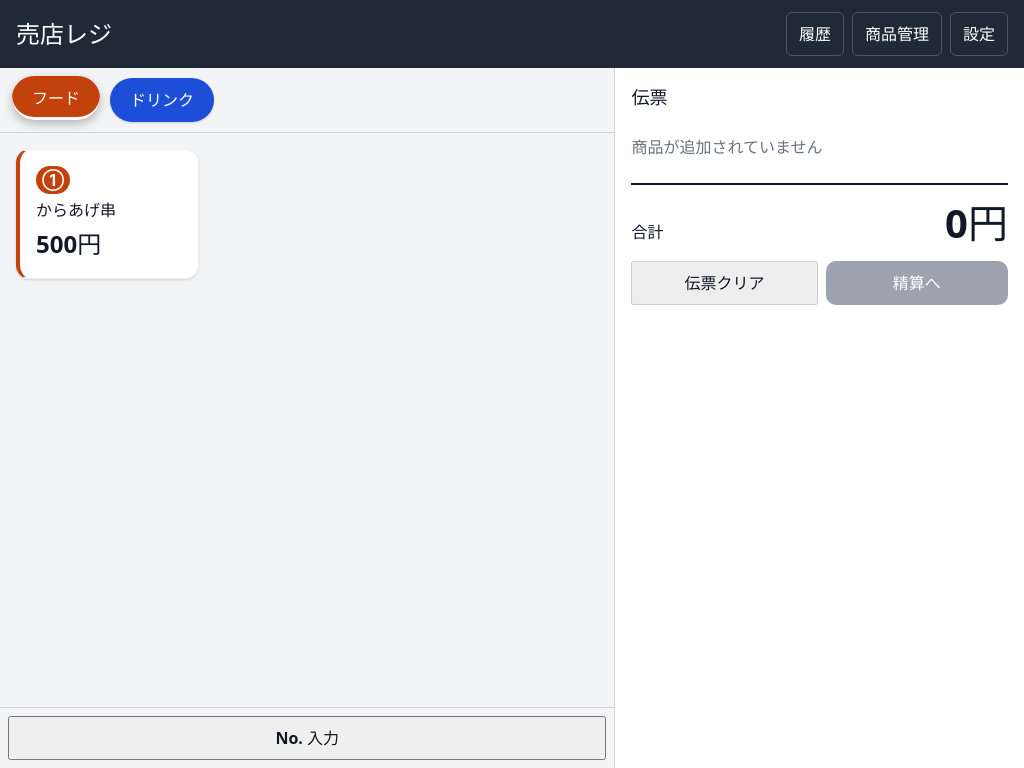
Test: FR-04: 商品一覧タップによる追加 › カテゴリを切り替えると該当カテゴリの商品のみ表示される（要件定義6.3）
This screenshot has width=1024, height=768.
Check: the button with aria-label "からあげ串を追加" is shown, box [16,149,200,279]
Click the tab "ドリンク": (162, 100) [110,78,214,122]
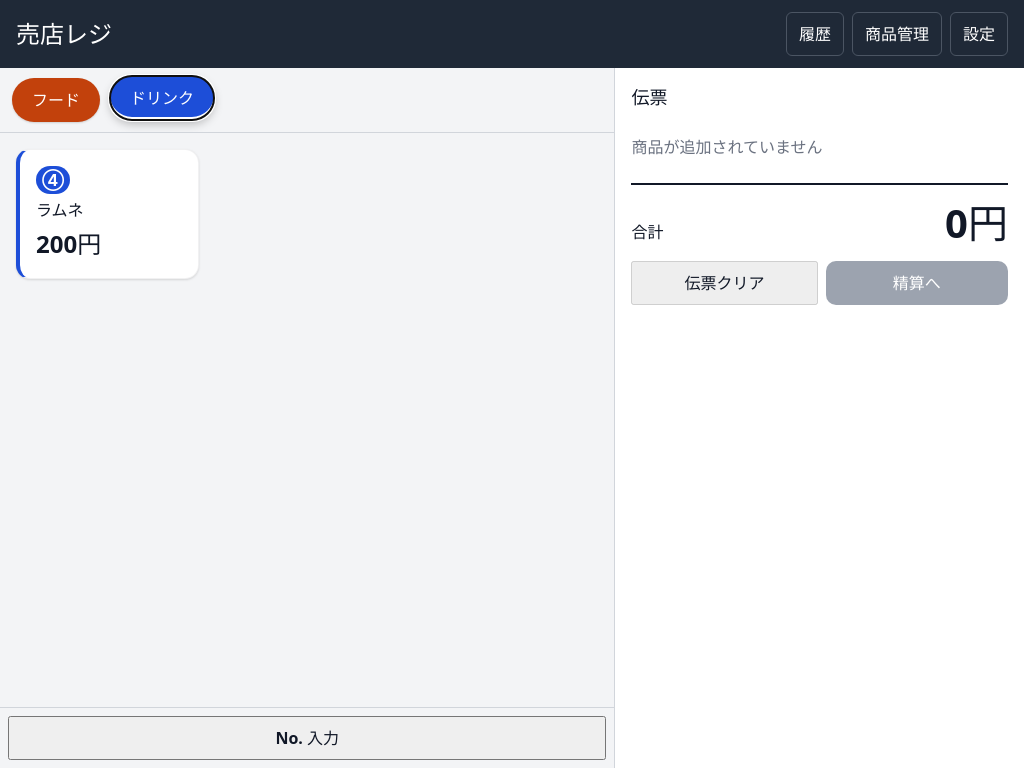
Check: the button with aria-label "ラムネを追加" is shown, box [16,149,200,279]
Check: the button "からあげ串を追加" is gone
